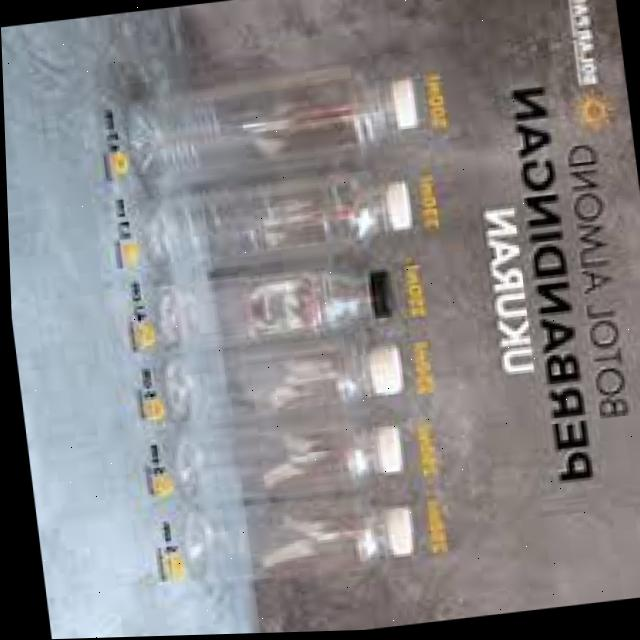Dry: (120, 315, 412, 446), (137, 250, 404, 362)
